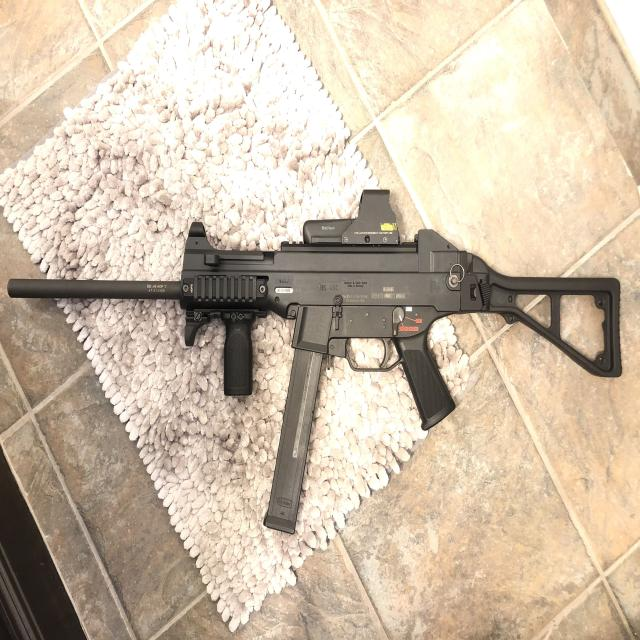SMG: (7, 192, 623, 536)
